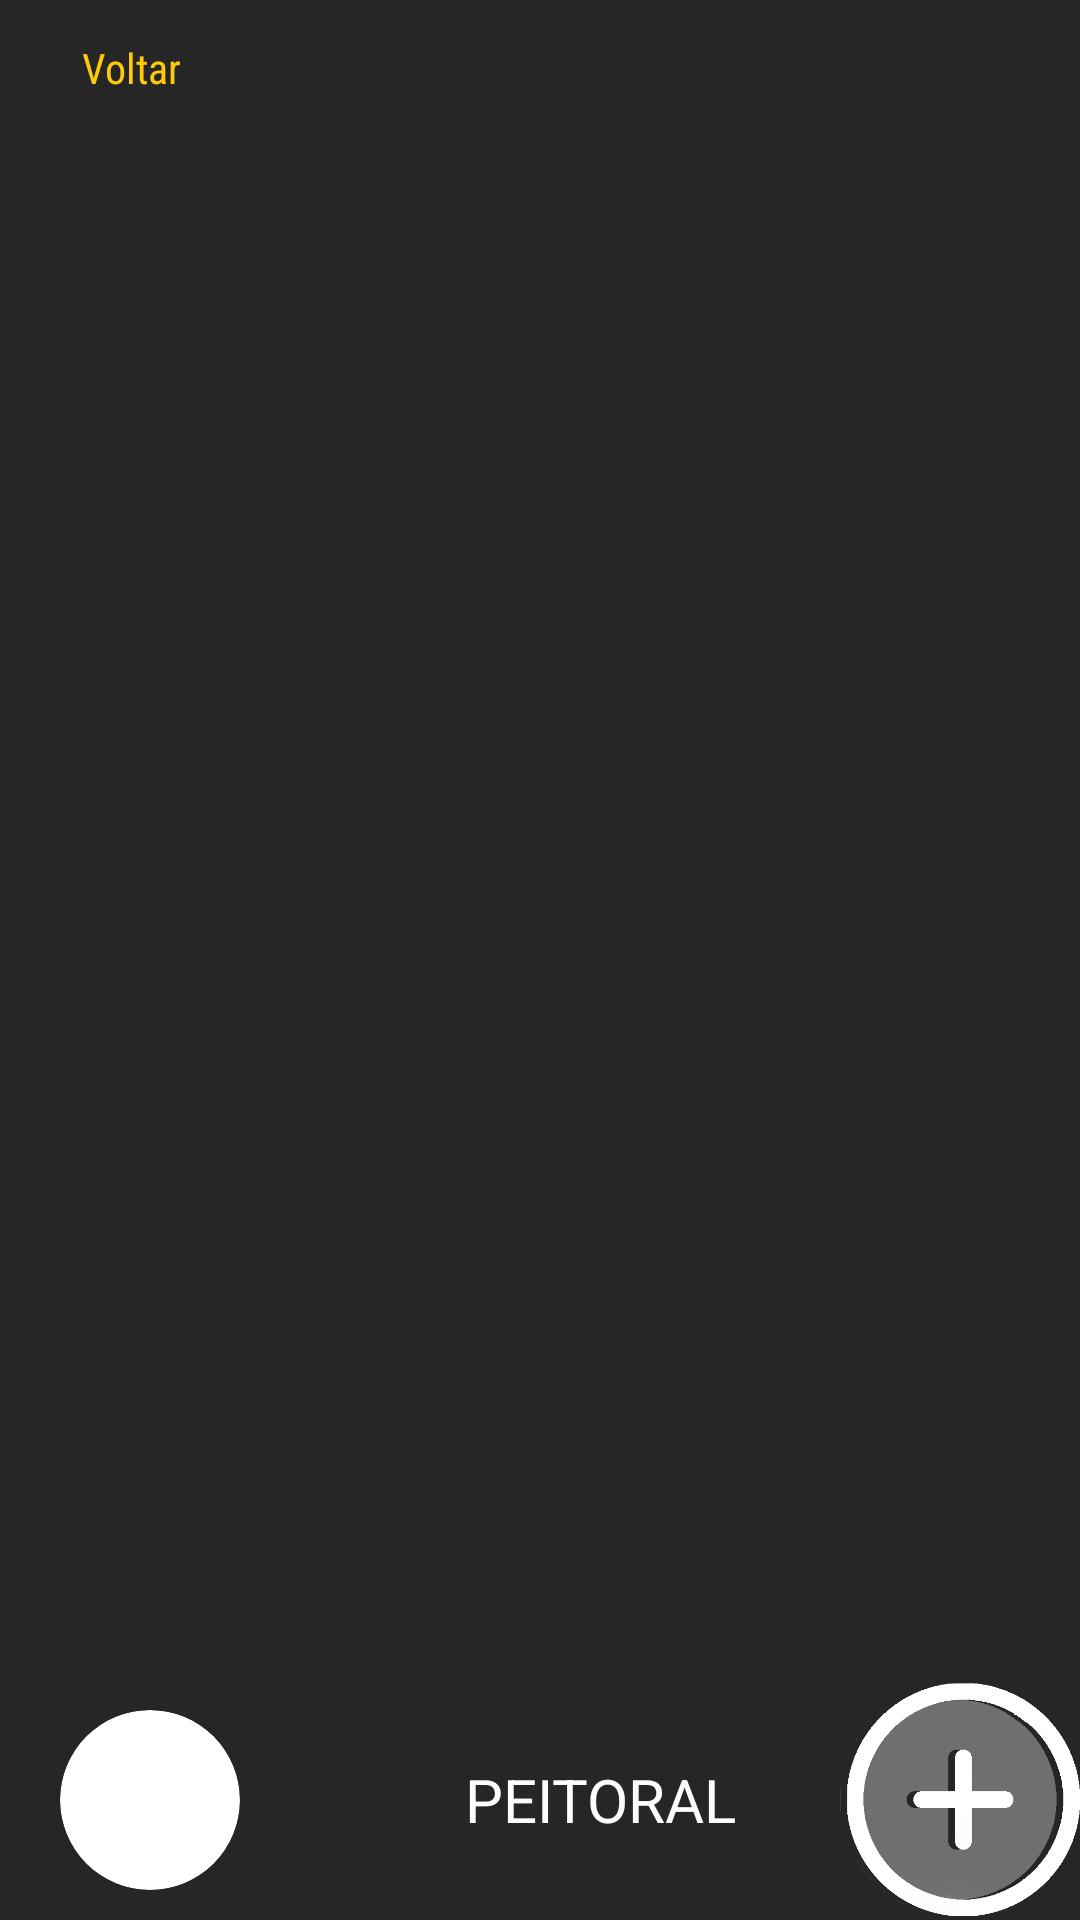

Named icons in this screenshot (1080px x 1920px) and their bounding boxes, rect(x1, y1, x2, y2):
plus: rect(840, 1683, 1080, 1916)
